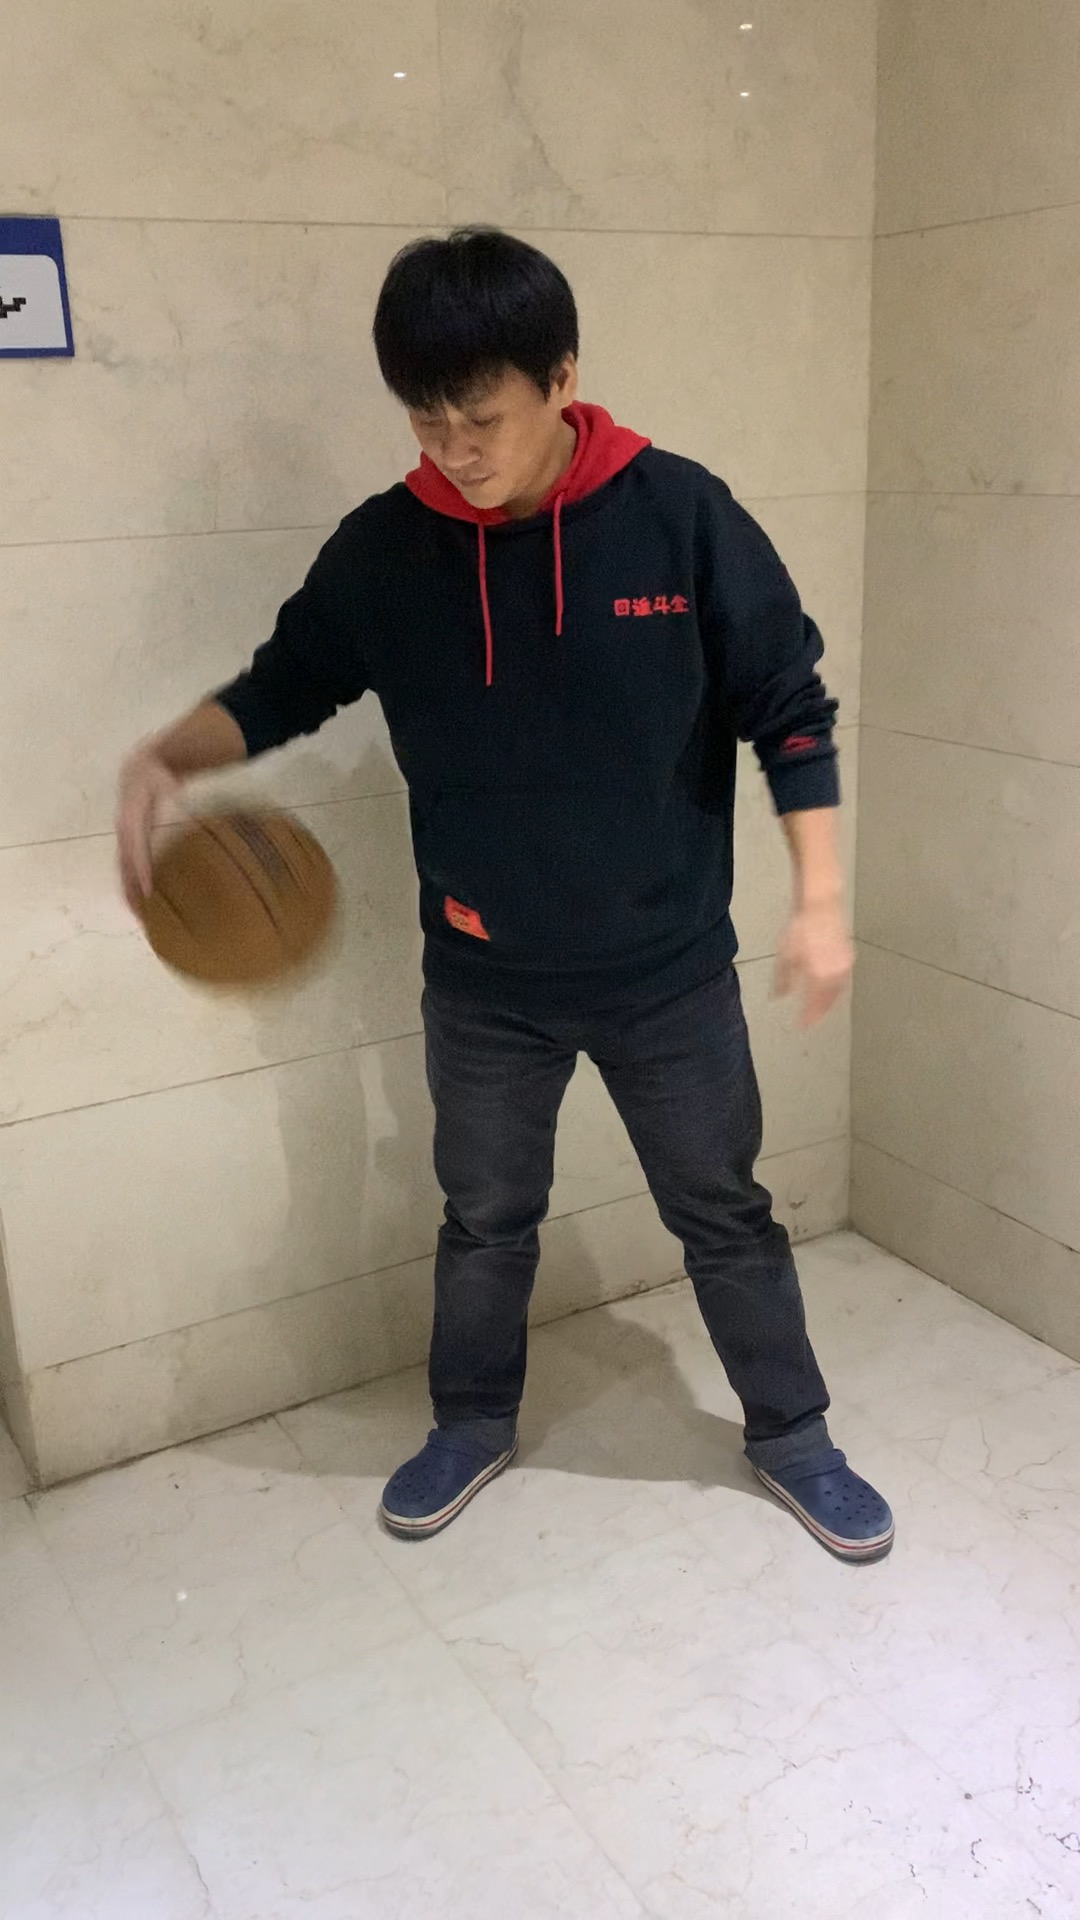ball: (131, 794, 357, 1017)
